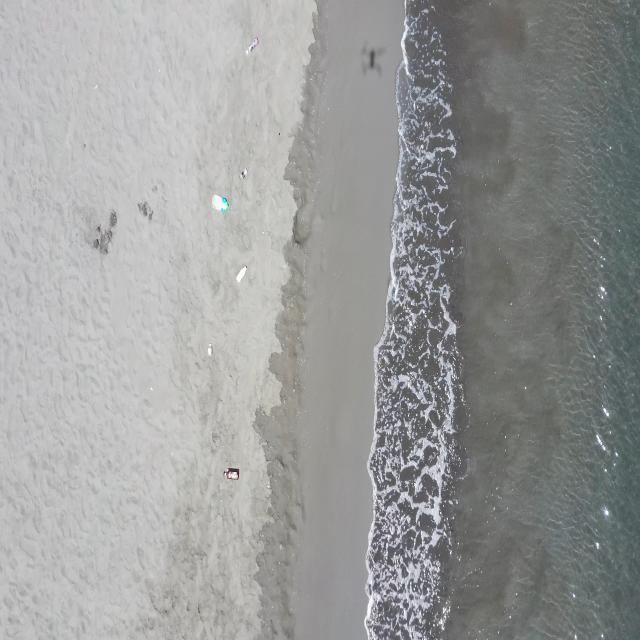plastic-bottle: (212, 194, 229, 214), (222, 465, 240, 482), (235, 264, 248, 284), (246, 36, 259, 55), (239, 167, 248, 181), (207, 342, 214, 358)
